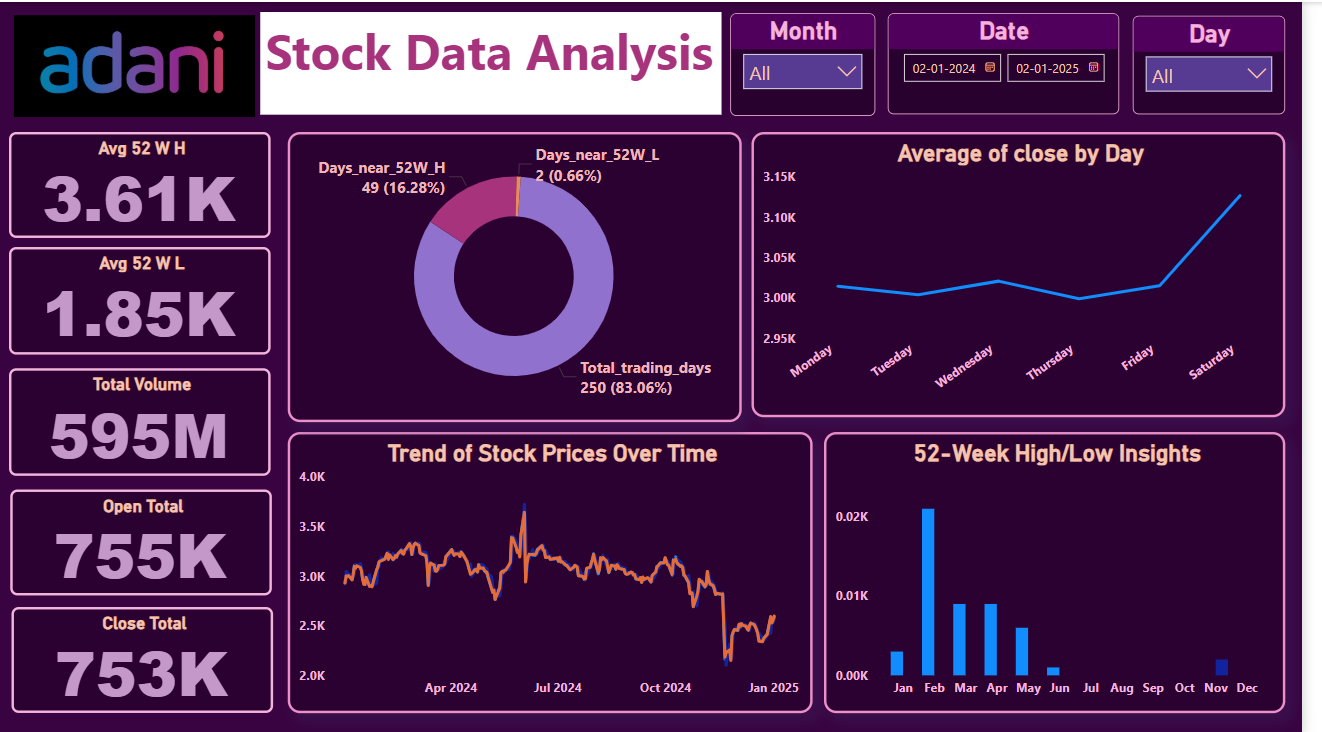

What the dashboard file says about the page in this screenshot:
{"tool":"powerbi","page":{"name":"Page 1","canvas":[1280,720],"ordinal":0},"visuals":[{"type":"lineChart","title":"Trend of Stock Prices Over Time","fields":{"Y":["Sum(Adani.ltp )","Sum(Adani.OPEN )","Sum(Adani.close )"],"Category":["Calender.Date"]},"box":[283.4,422.1,515.3,276.1],"z":0},{"type":"clusteredColumnChart","title":"52-Week High/Low Insights","fields":{"Category":["Calender.Month"],"Y":["Adani.Days_near_52W_H","Adani.Days_near_52W_L"]},"box":[809.8,422.1,452.8,276.1],"z":1000},{"type":"donutChart","fields":{"Y":["Adani.Total_trading_days","Adani.Days_near_52W_H","Adani.Days_near_52W_L"]},"box":[283.4,127.6,445.4,284.7],"z":2000},{"type":"lineChart","fields":{"Y":["Avg(Adani.close )"],"Category":["Adani.Day"]},"box":[738.7,127.6,523.9,279.8],"z":3000},{"type":"card","title":"Avg 52 W H","fields":{"Values":["Avg(Adani.52W H )"]},"box":[9.8,127.6,256.4,104.3],"z":4000},{"type":"card","title":"Total Volume","fields":{"Values":["Sum(Adani.VOLUME )"]},"box":[9.8,359.5,256.4,105.5],"z":5000},{"type":"card","title":"Avg 52 W L","fields":{"Values":["Avg(Adani.52W L )"]},"box":[9.8,240.5,256.4,105.5],"z":6000},{"type":"image","box":[9.8,7.4,246.6,111.7],"z":7000},{"type":"textbox","box":[256.4,9.8,452.8,100.6],"z":8000},{"type":"card","title":"Open Total","fields":{"Values":["Sum(Adani.OPEN )"]},"box":[11,478.5,256.4,104.3],"z":9000},{"type":"card","title":"Close Total","fields":{"Values":["Sum(Adani.close )"]},"box":[12.3,593.9,256.4,104.3],"z":10000},{"type":"slicer","title":"Month","fields":{"Values":["Calender.Month"]},"box":[717.8,11,142.3,100.6],"z":11000},{"type":"slicer","title":"Date","fields":{"Values":["Adani.Date "]},"box":[872.4,11,227,99.4],"z":12000},{"type":"slicer","title":"Day","fields":{"Values":["Adani.Day"]},"box":[1112.9,13.5,149.7,96.9],"z":13000}]}

Visuals, with their boxes in screenshot pixels (x1, y1, x2, y2), scaled from the page's 1280x720 canvas onto the 1322x732 screenshot:
"Trend of Stock Prices Over Time" lineChart: [left=293, top=429, right=825, bottom=710]
"52-Week High/Low Insights" clusteredColumnChart: [left=836, top=429, right=1304, bottom=710]
donutChart - Adani.Total_trading_days x Adani.Days_near_52W_H: [left=293, top=130, right=753, bottom=419]
lineChart - Avg(Adani.close ) x Adani.Day: [left=763, top=130, right=1304, bottom=414]
"Avg 52 W H" card: [left=10, top=130, right=275, bottom=236]
"Total Volume" card: [left=10, top=365, right=275, bottom=473]
"Avg 52 W L" card: [left=10, top=245, right=275, bottom=352]
image: [left=10, top=8, right=265, bottom=121]
textbox: [left=265, top=10, right=732, bottom=112]
"Open Total" card: [left=11, top=486, right=276, bottom=593]
"Close Total" card: [left=13, top=604, right=278, bottom=710]
"Month" slicer: [left=741, top=11, right=888, bottom=113]
"Date" slicer: [left=901, top=11, right=1135, bottom=112]
"Day" slicer: [left=1149, top=14, right=1304, bottom=112]
